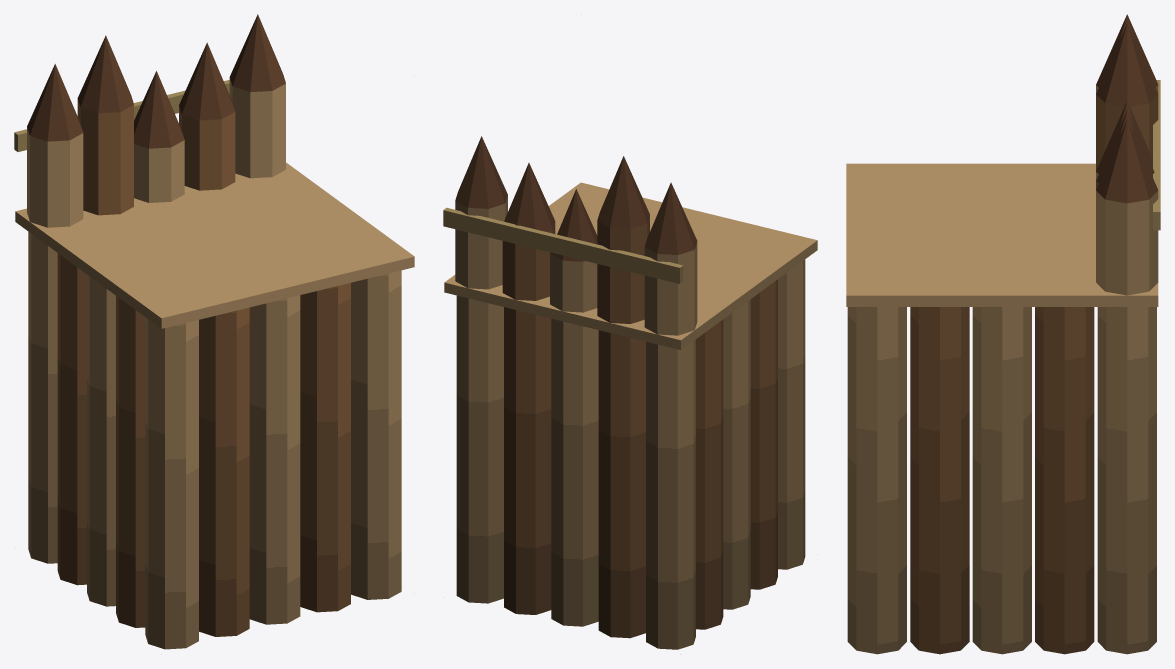
Rendered from perimeter_wall_wood_f14.glb.
3 renders of one model, left to right at view 1: azimuth 30°, elevation 25°; view 2: azimuth 150°, elevation 25°; view 3: azimuth 270°, elevation 25°, orthographic. The views are drawn at different scales.
Bounding box in the file's own units: 2 × 3.9 × 2.01.
1 material, 1 textured.
